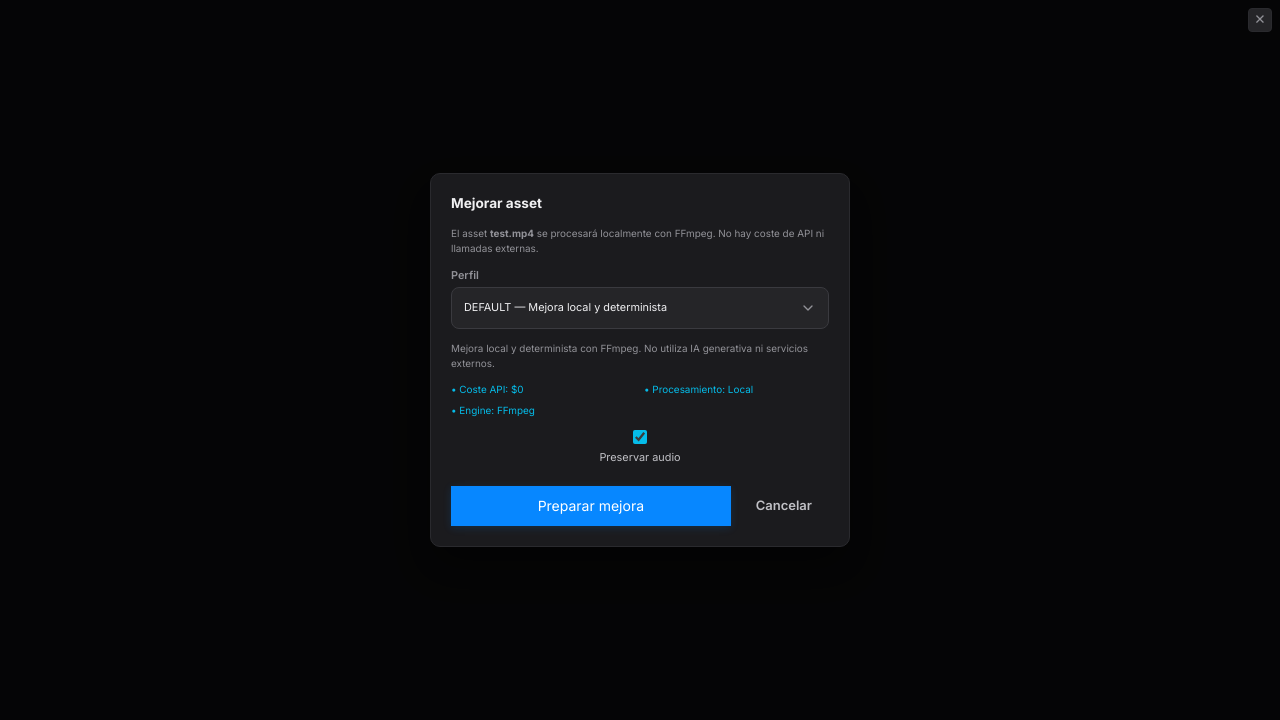
it: EnhancementPanel › does NOT call approve on prepare
Click the button "Preparar mejora": (591, 506) [451,486,731,526]
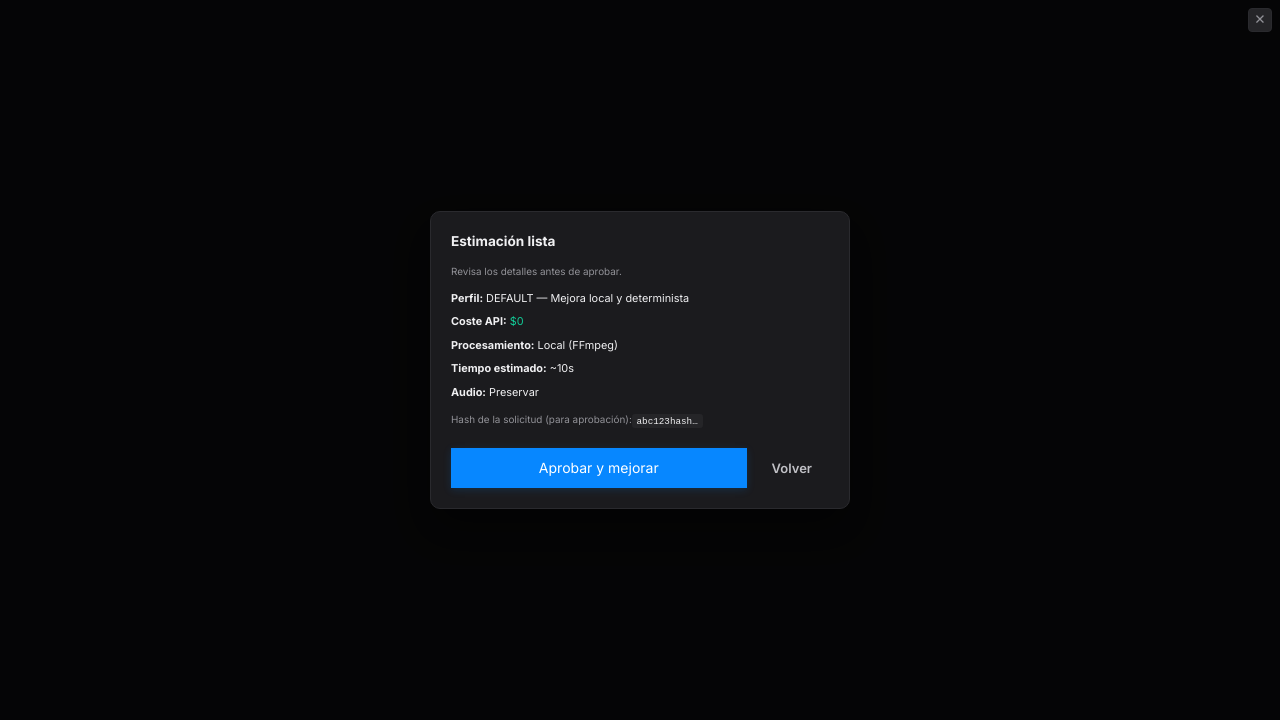
Check: the button "Aprobar y mejorar" is shown, box [451,448,747,488]
